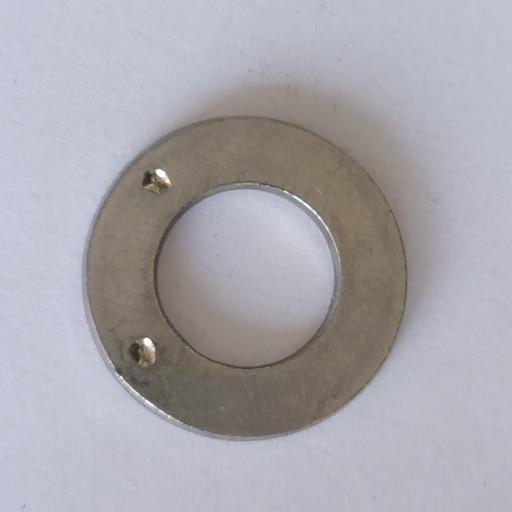circular_cavity: (128, 336, 157, 368), (141, 167, 172, 196)
